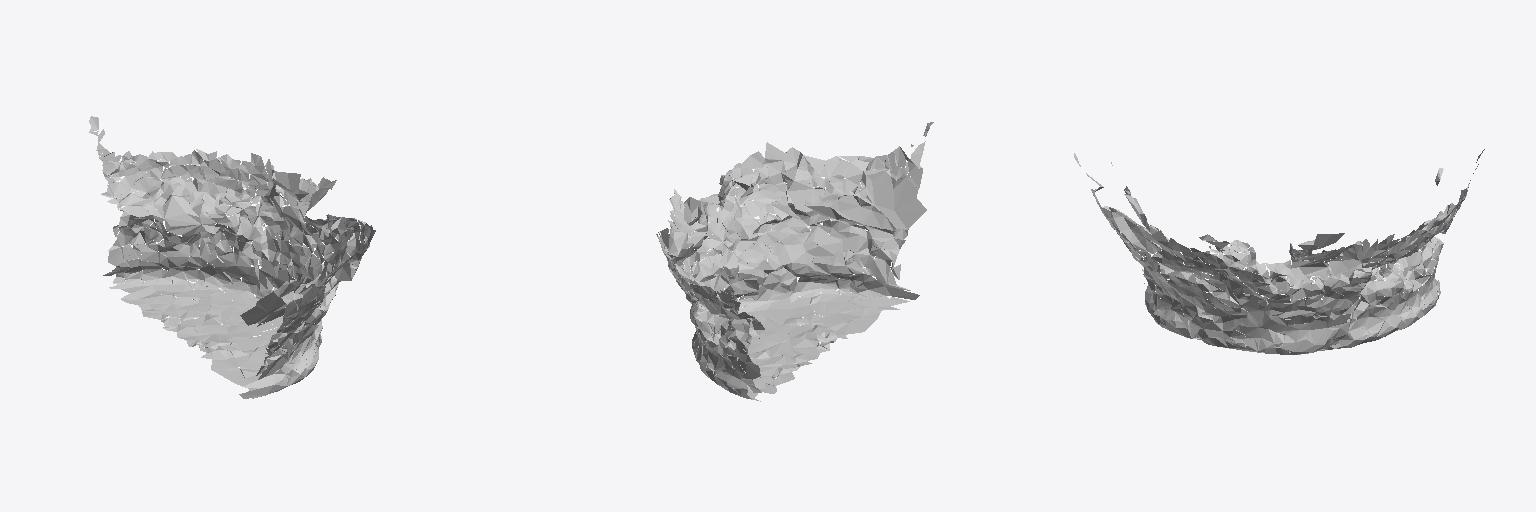
The model's file is rightdown.obj.
3 views of the same model, side by side, from view 1: azimuth 30°, elevation 25°; view 2: azimuth 150°, elevation 25°; view 3: azimuth 270°, elevation 25° (orthographic).
Bounding box in the file's own units: 6.33 × 5.49 × 12.92.